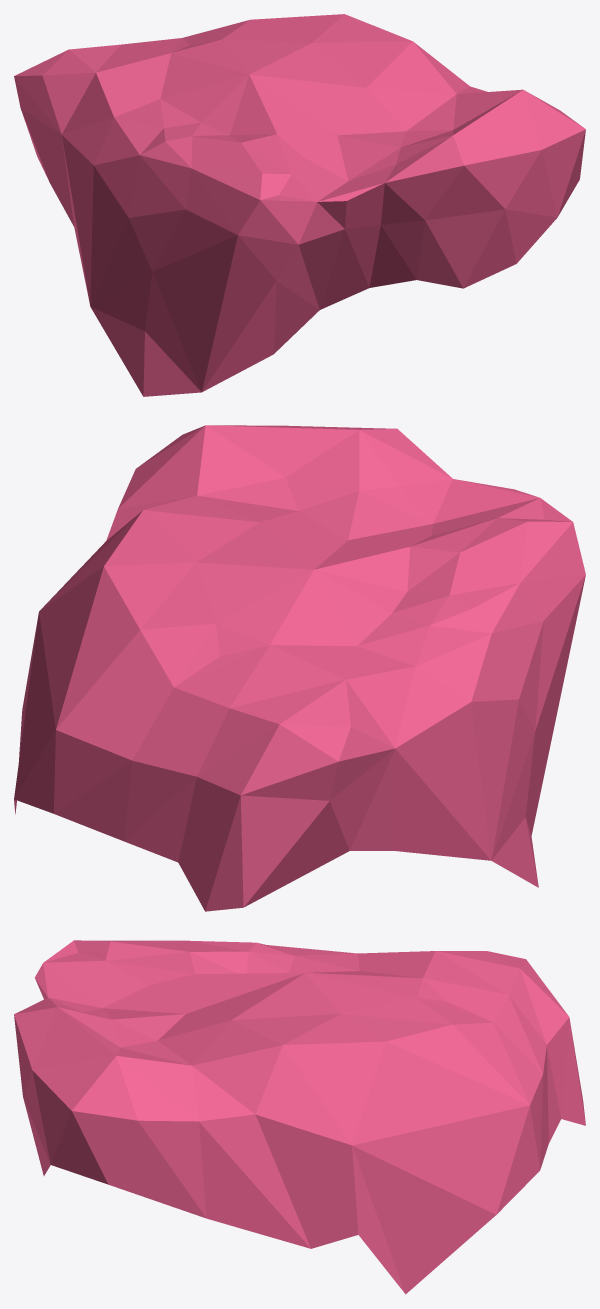
File: ground_002.fbx
3 renders of one model, top to bottom at view 1: azimuth 30°, elevation 25°; view 2: azimuth 150°, elevation 25°; view 3: azimuth 270°, elevation 25°, orthographic. The views are drawn at different scales.
Parts seen in each view (by area): view 1: ground.002; view 2: ground.002; view 3: ground.002.
Boxes of the visible parts, x1=… form: ground.002: x1=14, y1=14, x2=585, y2=396; ground.002: x1=14, y1=425, x2=585, y2=911; ground.002: x1=14, y1=940, x2=585, y2=1294.
Bounding box in the file's own units: 1958 × 1280 × 2438.
1 material, 1 textured.
